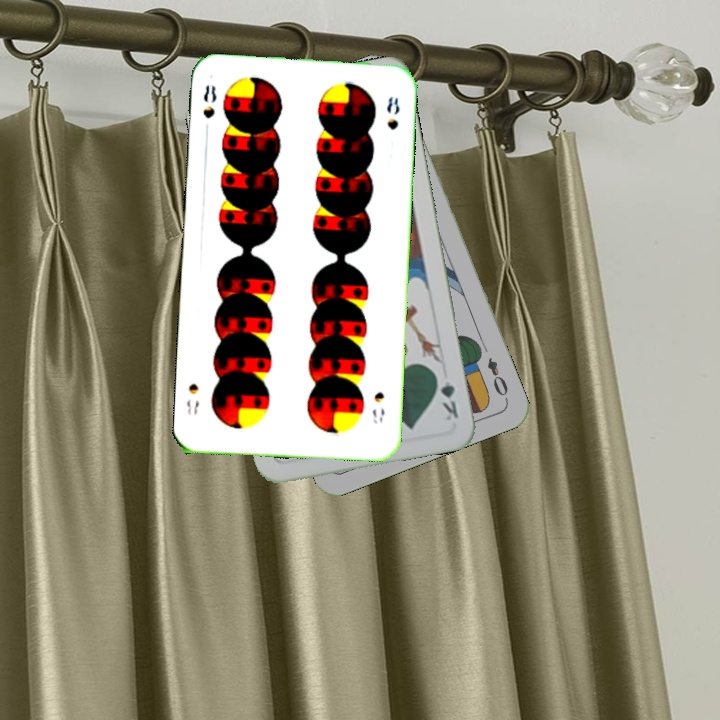EO: (483, 353, 511, 403)
GK: (431, 368, 461, 423)
S8: (199, 81, 219, 121), (368, 388, 387, 426)
